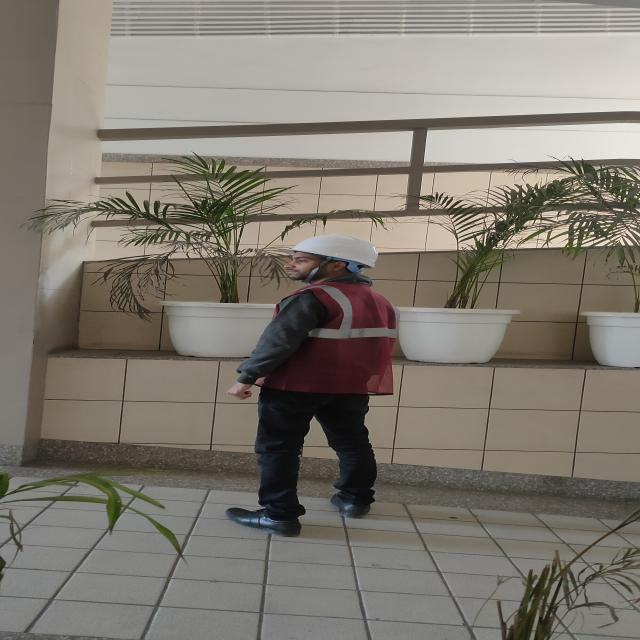safe: (230, 231, 396, 537)
